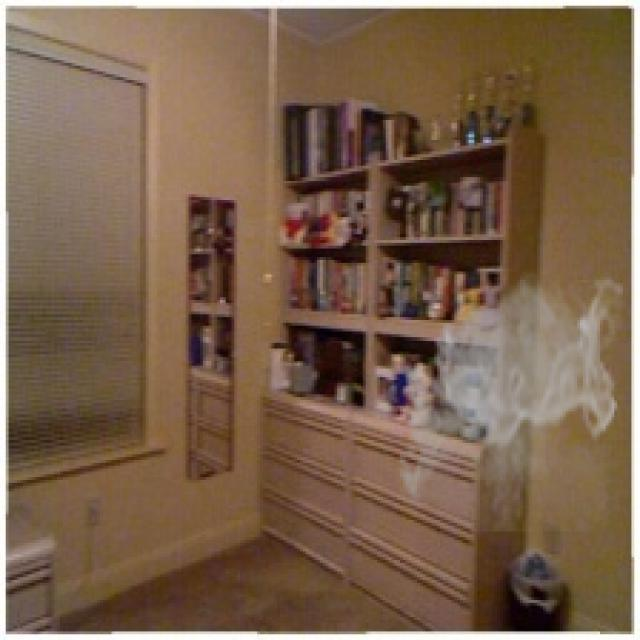Smoke: (391, 268, 623, 532)
